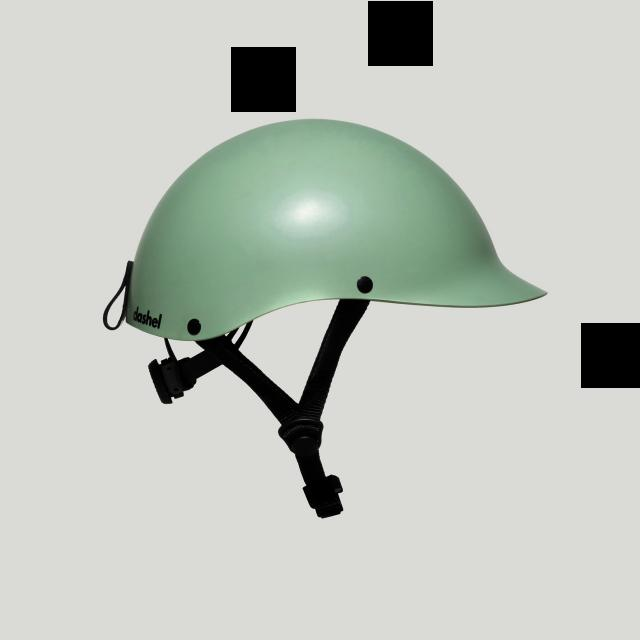Helmet: (126, 120, 545, 341)
